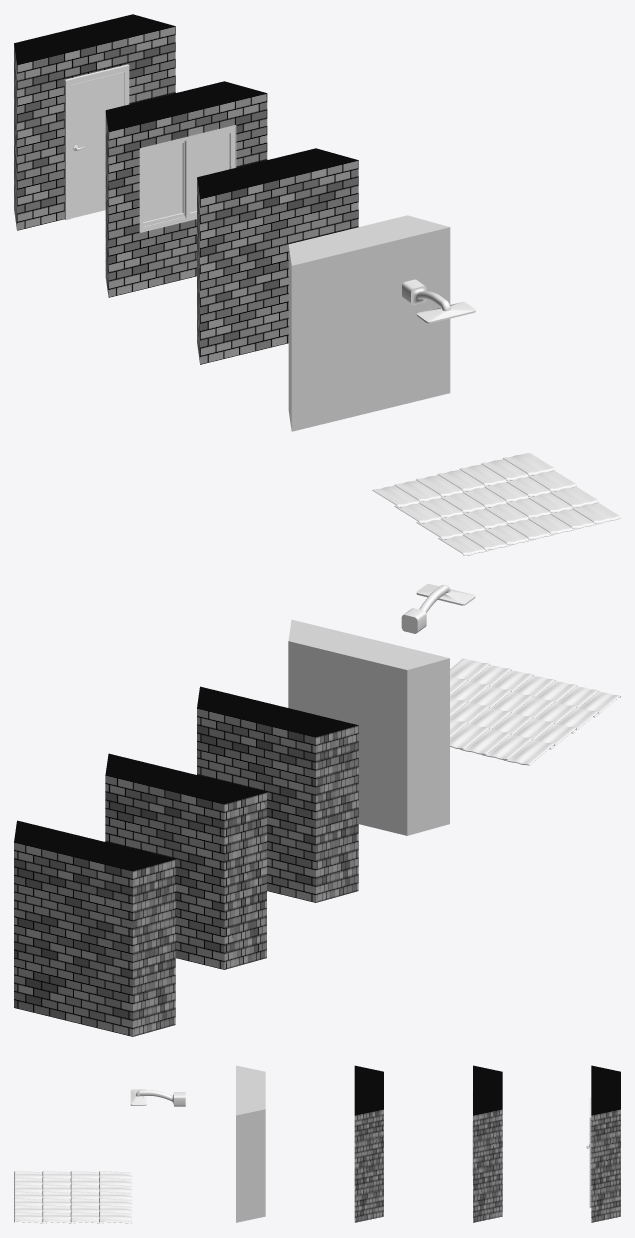
Rendered from Modular_Building_GLTF.glb.
3 renders of one model, top to bottom at view 1: azimuth 30°, elevation 25°; view 2: azimuth 150°, elevation 25°; view 3: azimuth 270°, elevation 25°, orthographic. The views are drawn at different scales.
Visible parts, largest first — view 1: base, wallWindow_LOD0, wallDoor_LOD0, wallBase_LOD0, roof_LOD0, lightBase_LOD0; view 2: wallDoor_LOD0, wallBase_LOD0, wallWindow_LOD0, base, roof_LOD0, lightBase_LOD0; view 3: roof_LOD0, wallDoor_LOD0, wallWindow_LOD0, wallBase_LOD0, base, lightBase_LOD0.
Part boxes in pixels (x1,y1,x2,y2): base: (288, 215, 450, 431); wallWindow_LOD0: (105, 81, 267, 297); wallDoor_LOD0: (14, 14, 175, 230); wallBase_LOD0: (197, 148, 358, 364); roof_LOD0: (372, 453, 620, 555); lightBase_LOD0: (402, 279, 475, 323); wallDoor_LOD0: (14, 820, 175, 1036); wallBase_LOD0: (197, 686, 358, 902); wallWindow_LOD0: (105, 753, 266, 969); base: (288, 619, 449, 835); roof_LOD0: (450, 658, 620, 765); lightBase_LOD0: (401, 584, 475, 633); roof_LOD0: (14, 1171, 132, 1223); wallDoor_LOD0: (586, 1065, 620, 1222); wallWindow_LOD0: (472, 1065, 502, 1222); wallBase_LOD0: (354, 1065, 383, 1222); base: (236, 1065, 265, 1222); lightBase_LOD0: (130, 1089, 185, 1106).
Size of what is drawn, in the model's own units: 2 by 2.02 by 10.25.
Materials: 10 (1 with a texture image).
